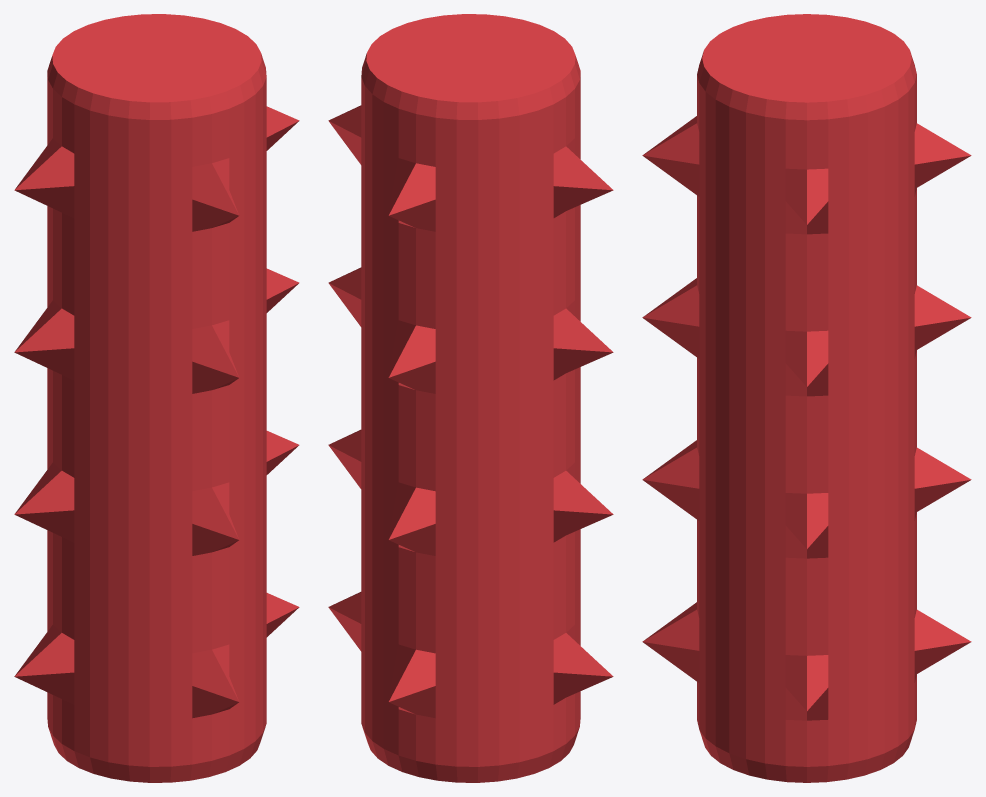
File: damage.fbx
The picture shows the model from 3 angles, left to right: view 1: azimuth 30°, elevation 25°; view 2: azimuth 150°, elevation 25°; view 3: azimuth 270°, elevation 25°; orthographic projection.
Parts seen in each view (by area): view 1: Цилиндр; view 2: Цилиндр; view 3: Цилиндр.
Part boxes in pixels (x1=…): Цилиндр: x1=14, y1=14, x2=299, y2=782; Цилиндр: x1=328, y1=14, x2=613, y2=782; Цилиндр: x1=642, y1=14, x2=971, y2=782.
Size of the model in its own units: 180 by 410 by 180.
